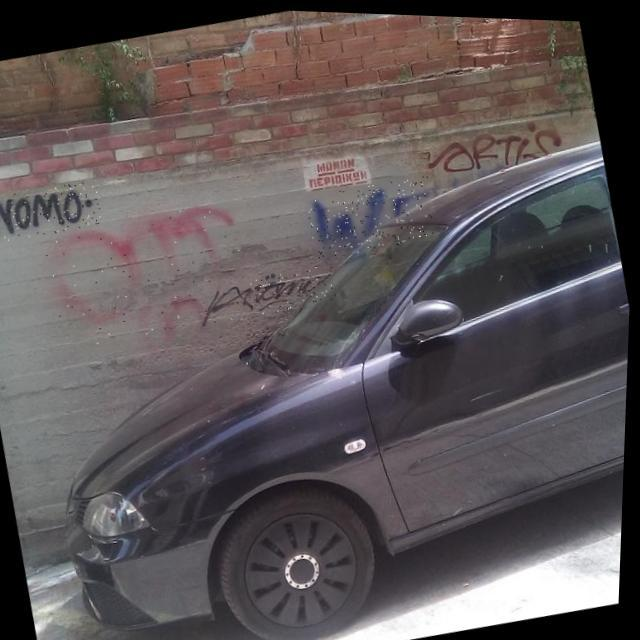-: (40, 193, 262, 354), (303, 168, 442, 261), (419, 102, 570, 180), (196, 255, 342, 328), (0, 175, 105, 250)
